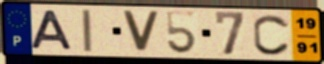5: (164, 9, 200, 56)
7: (213, 10, 247, 58)
A: (29, 9, 75, 52)
C: (252, 13, 292, 57)
I: (79, 8, 94, 54)
V: (120, 9, 162, 55)
